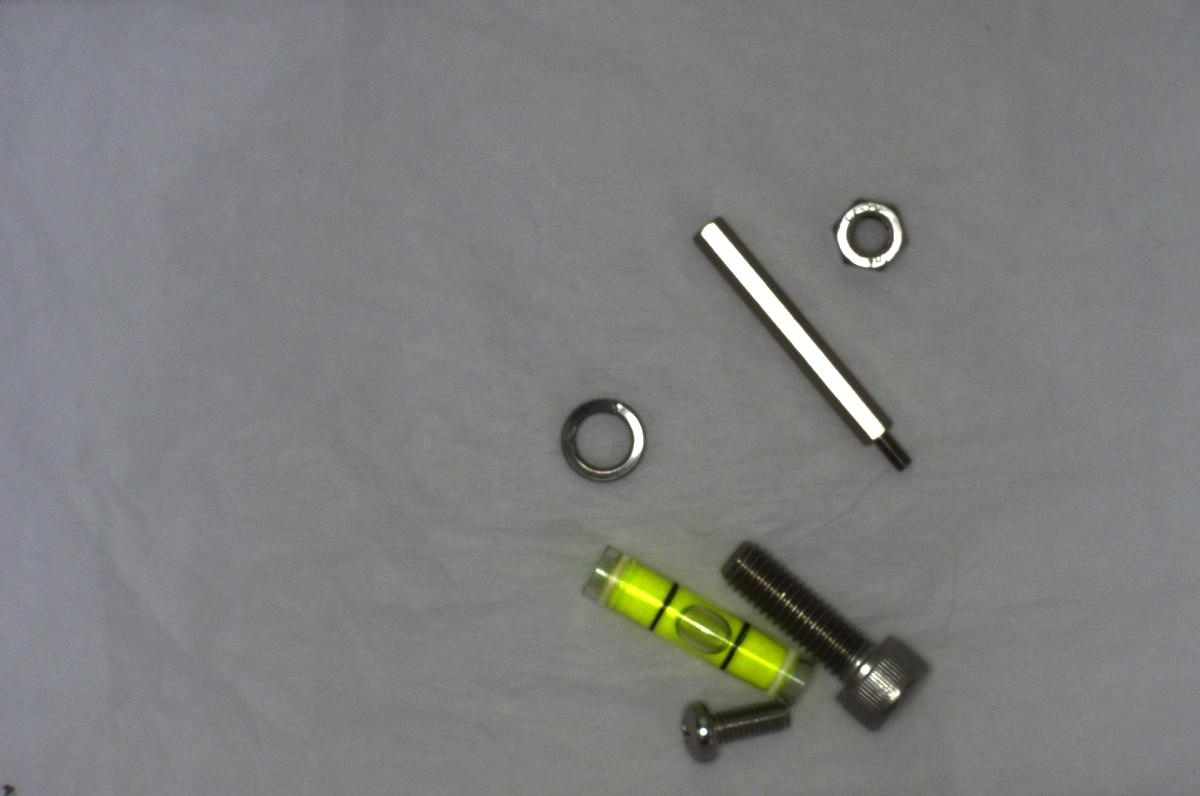Hexagon nut: (819, 187, 911, 283)
Hexagon screw: (723, 535, 930, 733)
Hexagonal steel column: (685, 212, 914, 473)
Horizontal bubble: (566, 546, 817, 698)
Round head screw: (671, 683, 798, 768)
Spring washer: (557, 386, 652, 486)
